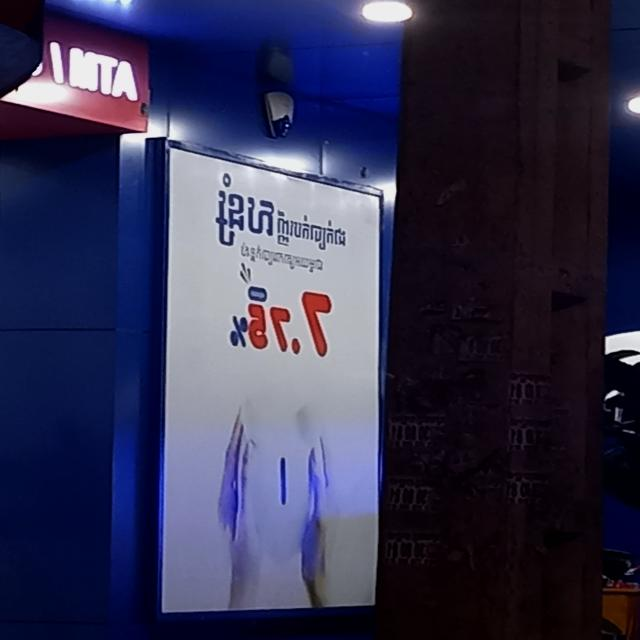824: (242, 285, 350, 359)
Yolov11_80vkh: (203, 166, 352, 261)
